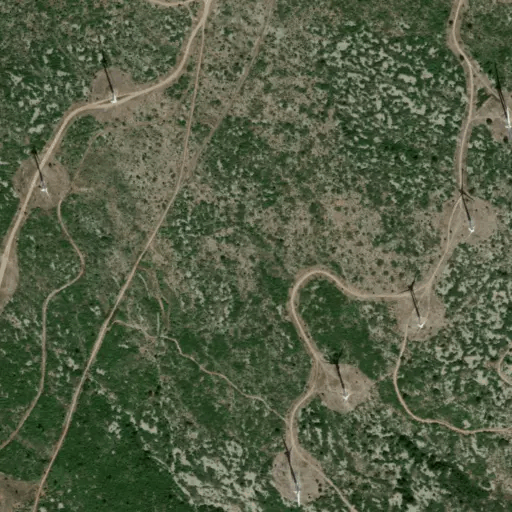wt: (90, 47, 124, 107), (455, 175, 480, 244), (280, 438, 305, 507), (490, 64, 512, 137), (401, 278, 429, 332), (27, 144, 52, 198), (326, 353, 351, 402)
